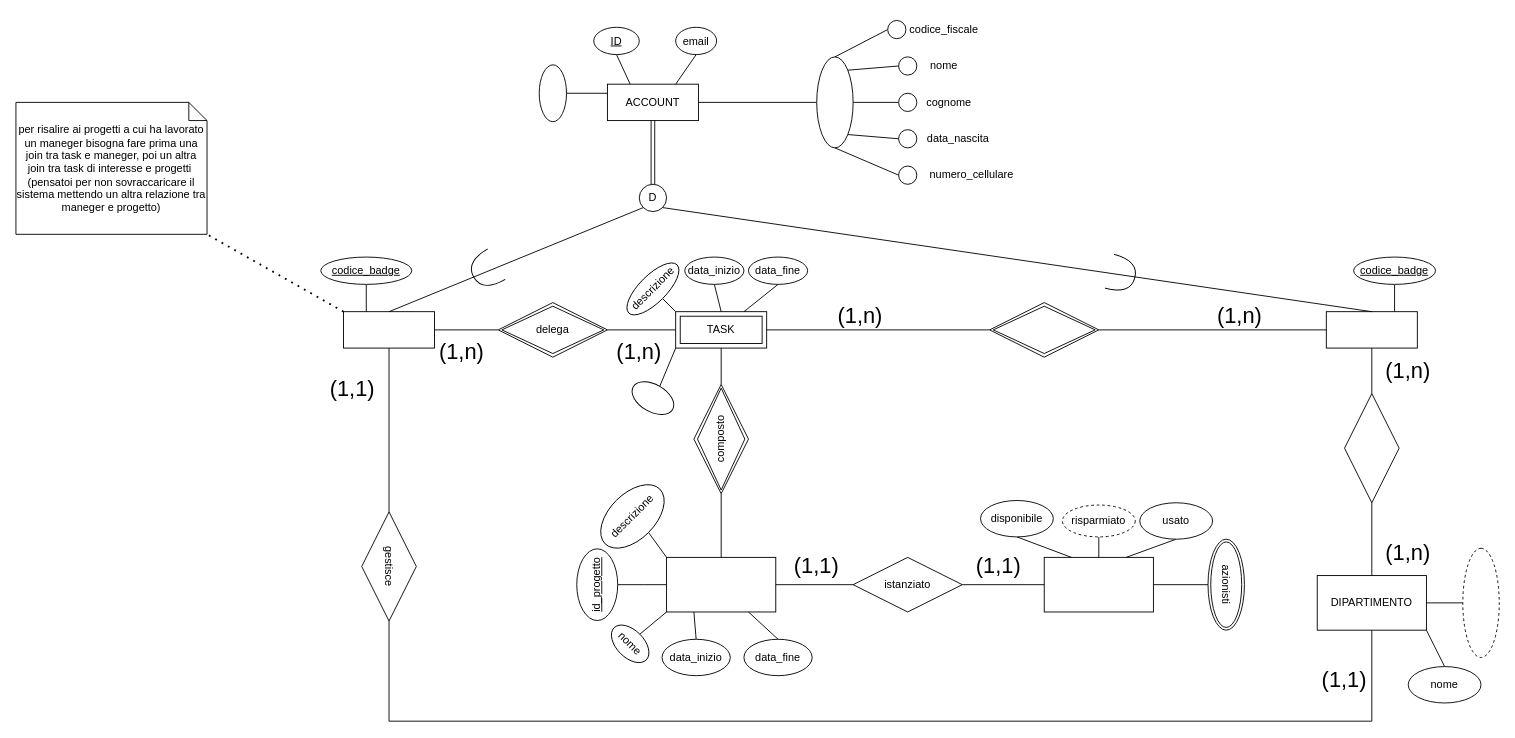
The diagram is 1515 pixels wide and 738 high, and some of its shapes have lost their labels. Here are the shapes that lost their labels. From the top down, the centre of each, then its label:
point 552,93: password
point 834,102: dati_fiscali
point 389,329: MANAGER
point 1044,329: esegue
point 1371,329: DIPENDENTE
point 652,397: stato
point 1371,448: appartiene
point 721,584: PROGETTO
point 1098,584: BUDGET
point 1480,602: numero_dipedenti
